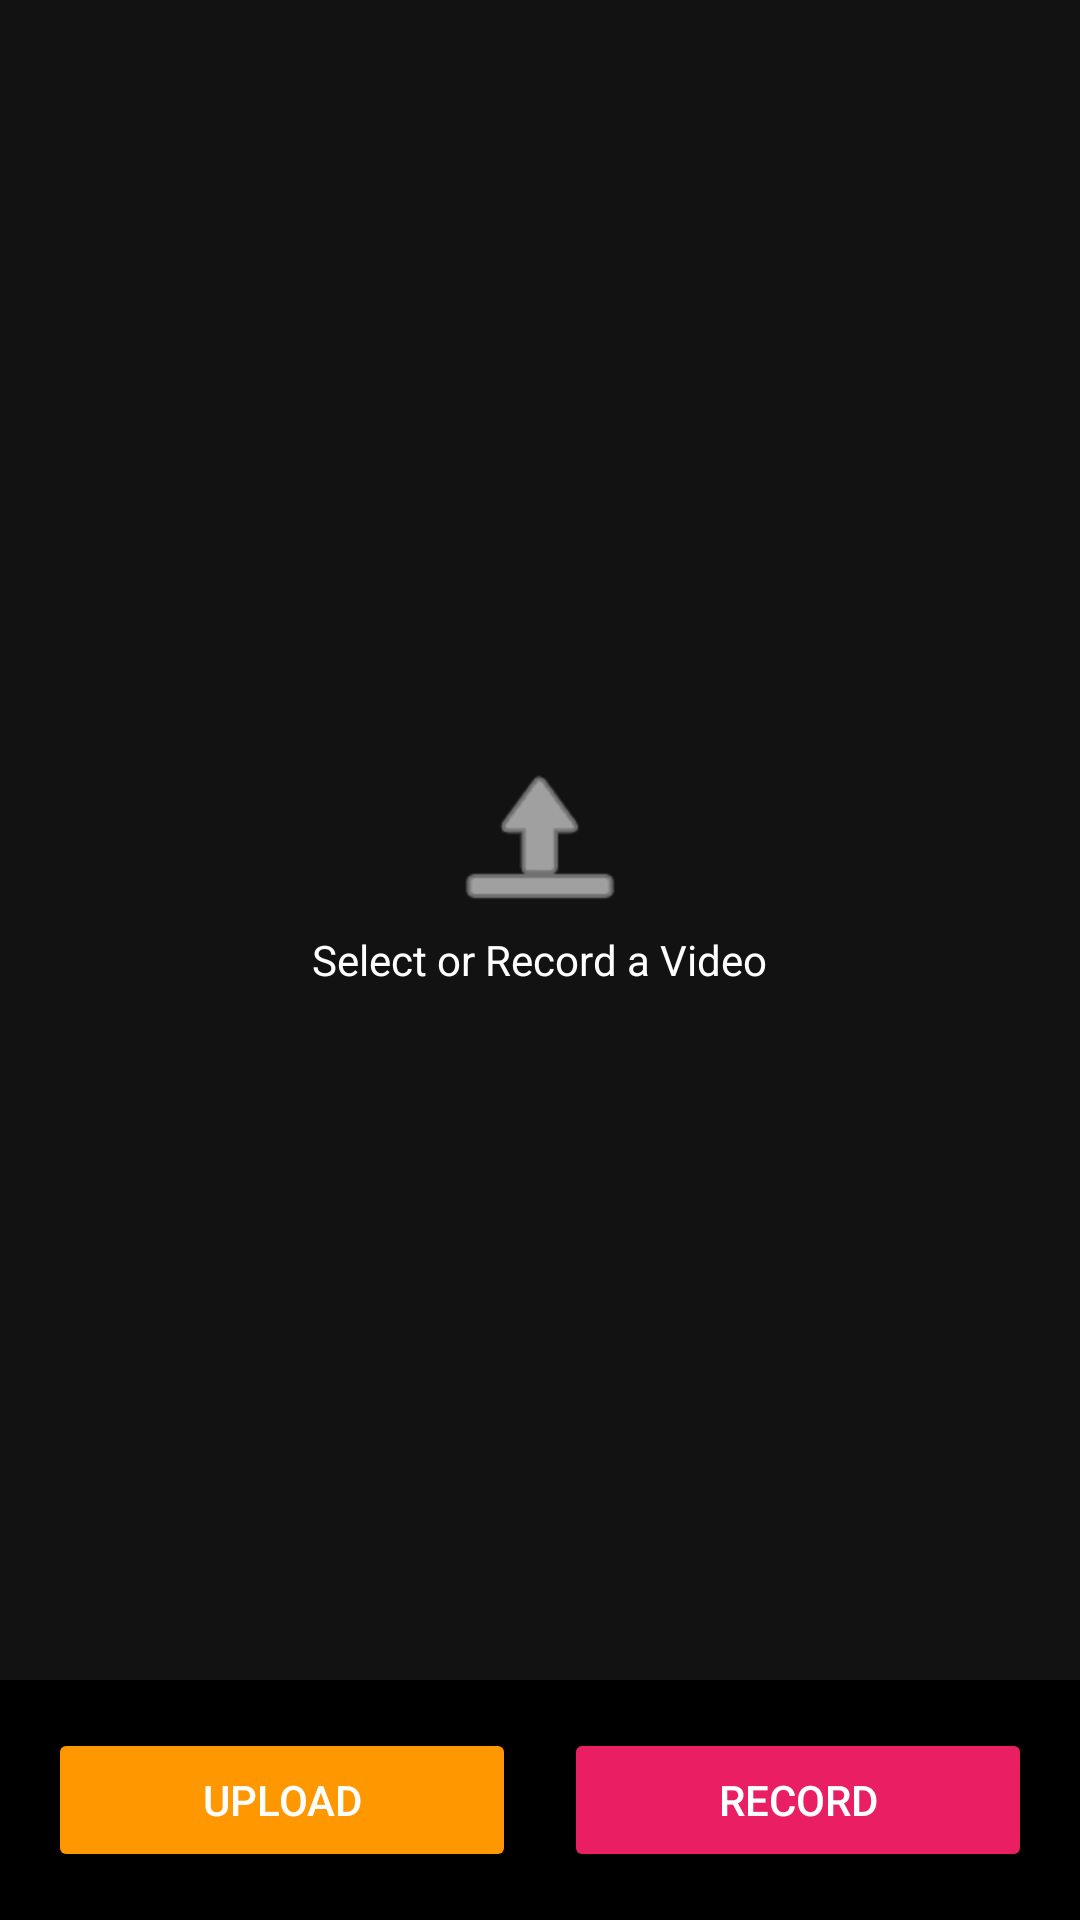

Screen size 1080px×1920px. Icon name, then its box in pixels as (x1, y1, x2, y2):
upload: (466, 776, 614, 899)
